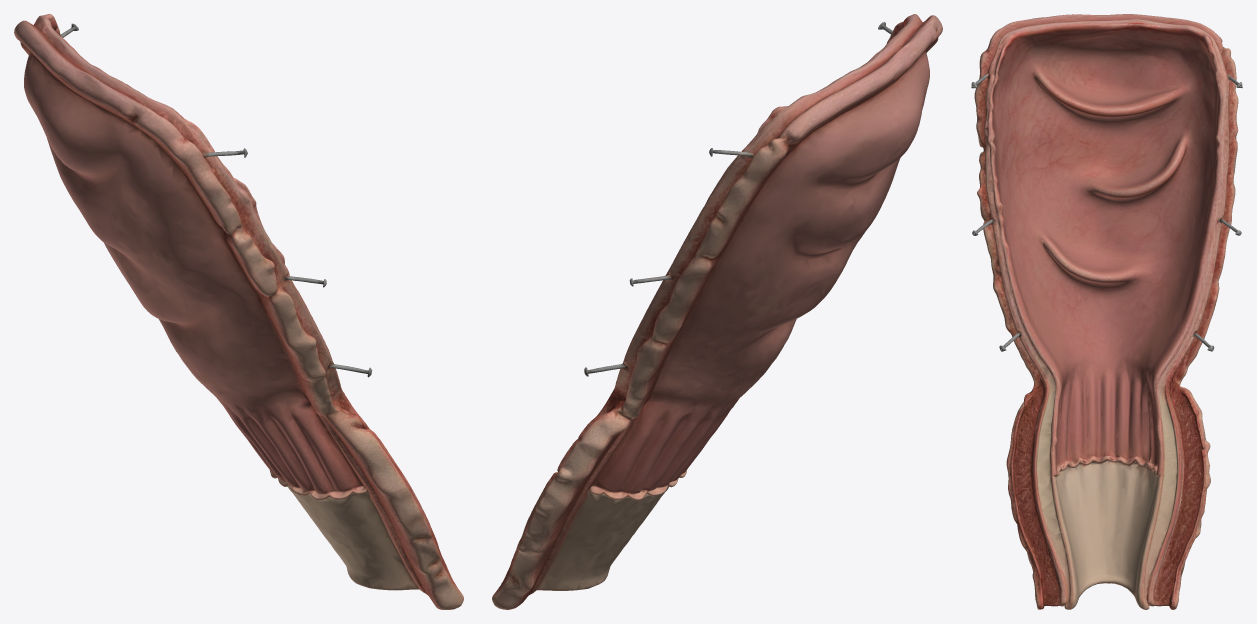
File: rectum.glb
The picture shows the model from 3 angles, left to right: view 1: azimuth 30°, elevation 25°; view 2: azimuth 150°, elevation 25°; view 3: azimuth 270°, elevation 25°; orthographic projection. The views are drawn at different scales.
Visible parts, largest first — view 1: tripo_node_251f2b03-7a66-4e6e-b4cc-ccaf9d12336c; view 2: tripo_node_251f2b03-7a66-4e6e-b4cc-ccaf9d12336c; view 3: tripo_node_251f2b03-7a66-4e6e-b4cc-ccaf9d12336c.
Part boxes in pixels (bbox=[...]): tripo_node_251f2b03-7a66-4e6e-b4cc-ccaf9d12336c: bbox=[14, 14, 463, 609]; tripo_node_251f2b03-7a66-4e6e-b4cc-ccaf9d12336c: bbox=[492, 14, 942, 609]; tripo_node_251f2b03-7a66-4e6e-b4cc-ccaf9d12336c: bbox=[971, 14, 1242, 609].
Bounding box in the file's own units: 0.6476 × 0.9999 × 0.5273.
Materials: 1 (1 with a texture image).
